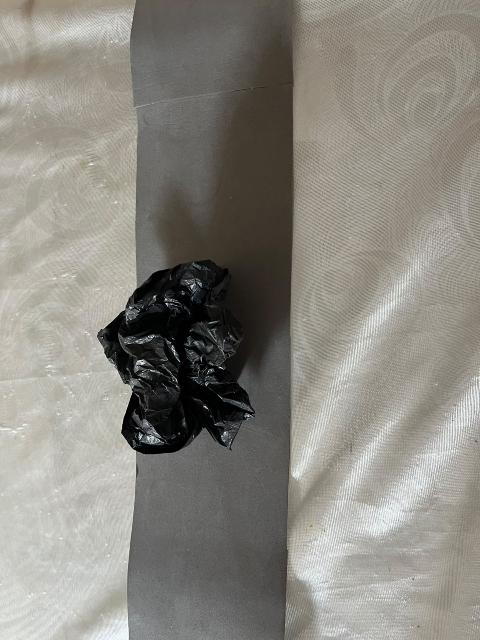LDPE: (55, 239, 334, 522)
